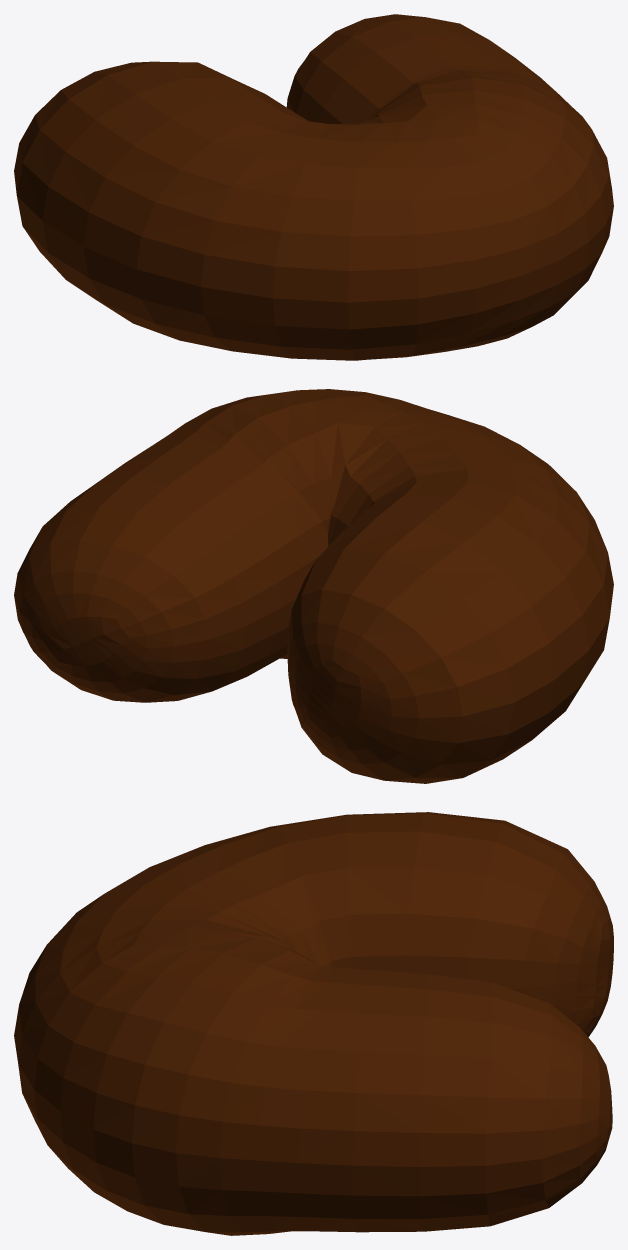
The picture shows the model from 3 angles, top to bottom: view 1: azimuth 30°, elevation 25°; view 2: azimuth 150°, elevation 25°; view 3: azimuth 270°, elevation 25°; orthographic projection. The views are drawn at different scales.
Bounding box in the file's own units: 1.02 × 0.4581 × 0.9319.
